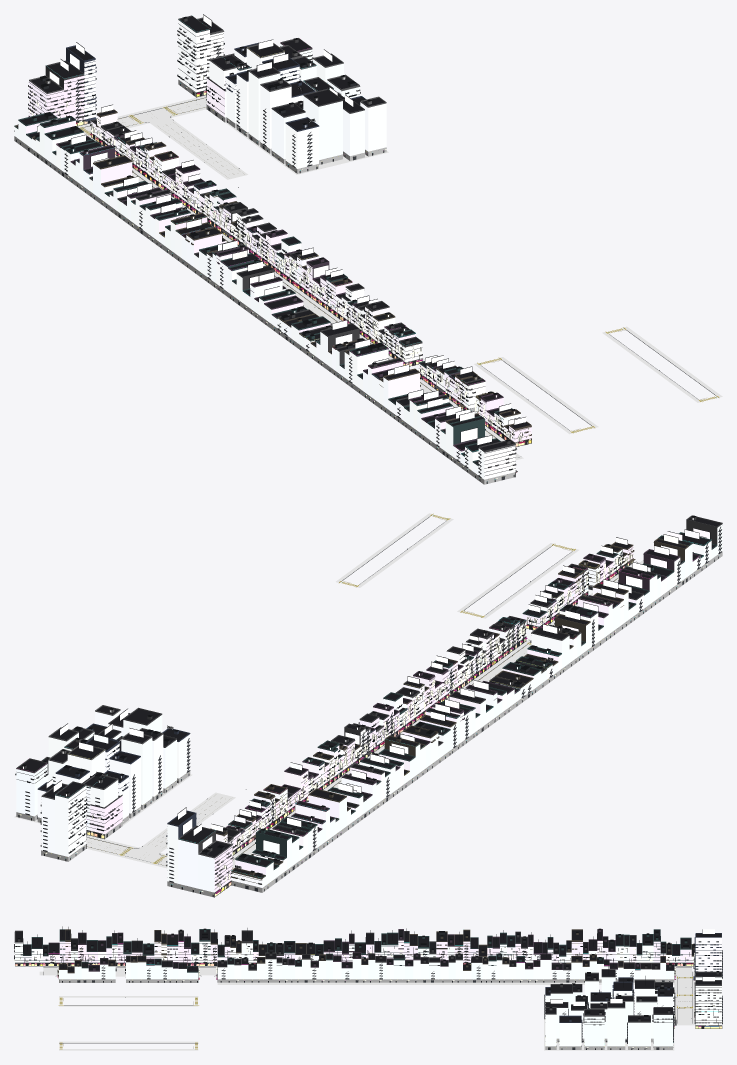
File: world-high-west.glb
3 renders of one model, top to bottom at view 1: azimuth 30°, elevation 25°; view 2: azimuth 150°, elevation 25°; view 3: azimuth 270°, elevation 25°, orthographic. The views are drawn at different scales.
Parts seen in each view (by area): view 1: japantown_facade, mega_facade, japantown_trim, japantown_roof, mega_roof, japantown_billboard, mega_trim, japantown_concrete, japantown_board_frame, mega_asphalt, japantown_sign, deck_sidewalk (+7 smaller); view 2: japantown_facade, mega_facade, japantown_trim, japantown_roof, japantown_billboard, mega_roof, mega_trim, japantown_board_frame, japantown_concrete, japantown_sign, mega_asphalt, japantown_metal_detail (+8 smaller); view 3: japantown_facade, japantown_roof, japantown_trim, mega_facade, mega_roof, japantown_concrete, mega_trim, deck_sidewalk, japantown_sidewalk, japantown_board_frame, japantown_metal_detail, japantown_dark_detail (+13 smaller).
Part boxes in pixels (x1,y1,x2,y2): japantown_facade: (14,113,531,479); mega_facade: (29,20,386,168); japantown_trim: (14,109,531,477); japantown_roof: (16,110,529,464); mega_roof: (31,16,384,130); japantown_billboard: (37,105,526,444); mega_trim: (28,15,386,135); japantown_concrete: (14,136,515,484); japantown_board_frame: (37,104,528,470); mega_asphalt: (80,97,247,188); japantown_sign: (67,118,530,478); deck_sidewalk: (420,326,722,441); japantown_facade: (216,524,722,887); mega_facade: (16,710,232,892); japantown_trim: (210,515,722,885); japantown_roof: (216,517,720,877); japantown_billboard: (211,528,709,859); mega_roof: (18,706,230,857); mega_trim: (16,705,232,897); japantown_board_frame: (211,528,710,868); japantown_concrete: (231,551,722,892); japantown_sign: (224,550,707,851); mega_asphalt: (86,792,255,868); japantown_metal_detail: (221,526,721,888); japantown_facade: (15,940,694,979); japantown_roof: (15,930,694,972); japantown_trim: (14,929,694,982); mega_facade: (545,937,721,1046); mega_roof: (545,933,721,1022); japantown_concrete: (59,979,674,982); mega_trim: (545,933,722,1028); deck_sidewalk: (55,966,201,1050); japantown_sidewalk: (39,966,677,984); japantown_board_frame: (20,926,694,977); japantown_metal_detail: (14,933,676,980); japantown_dark_detail: (17,928,694,968).
Size of the model in its own units: 257 by 68.98 by 804.
